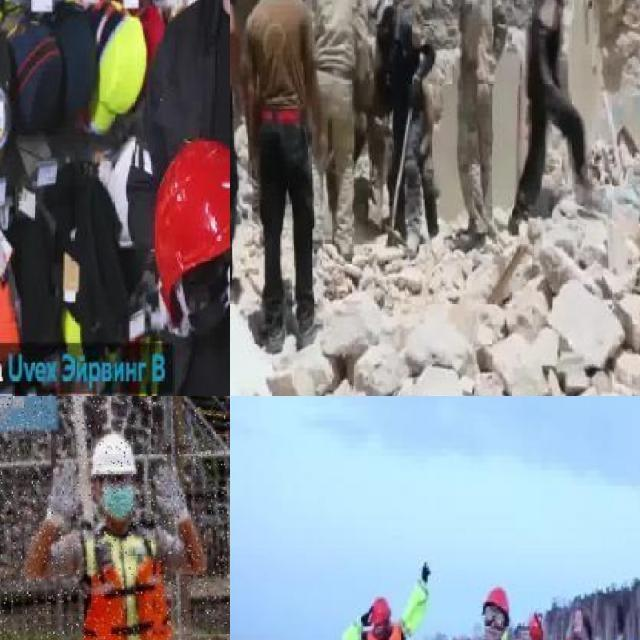apron: (44, 463, 84, 529), (152, 462, 190, 526), (617, 606, 626, 636), (420, 560, 431, 582), (588, 625, 594, 640)
